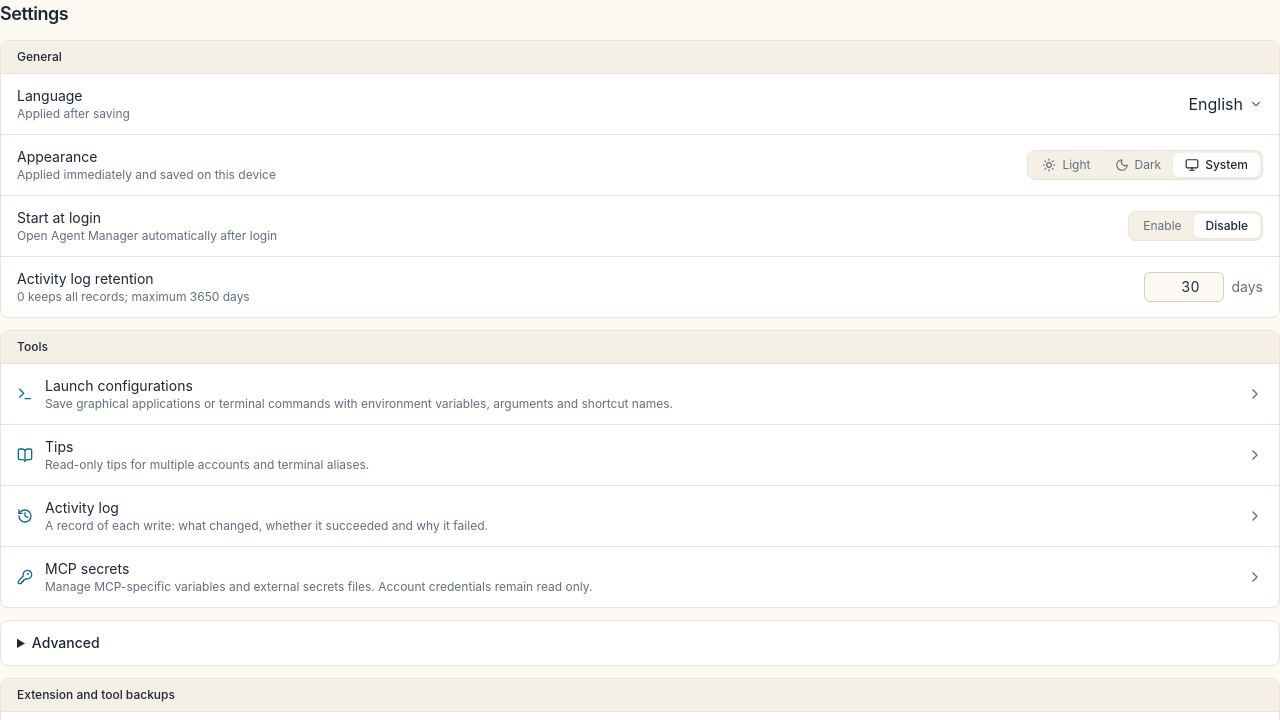
application language › does not let a canceled old settings read replace a newly saved language
What coordinates should you click on to do the following:
click the dropdown named "Language"
I would click on:
 (1226, 104)
Its box is [1188,92,1263,116].
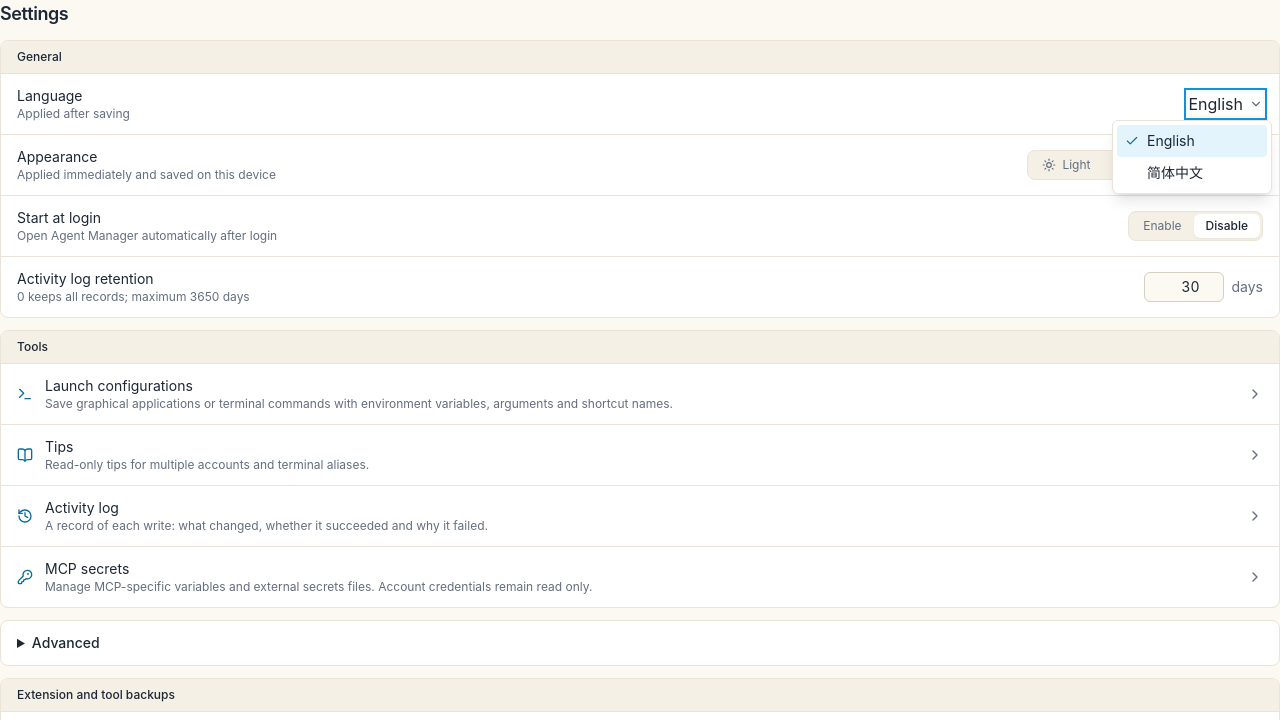
What coordinates should you click on to do the following:
click the option "简体中文"
I would click on:
 (1175, 172)
Its box is [1147,164,1203,181].
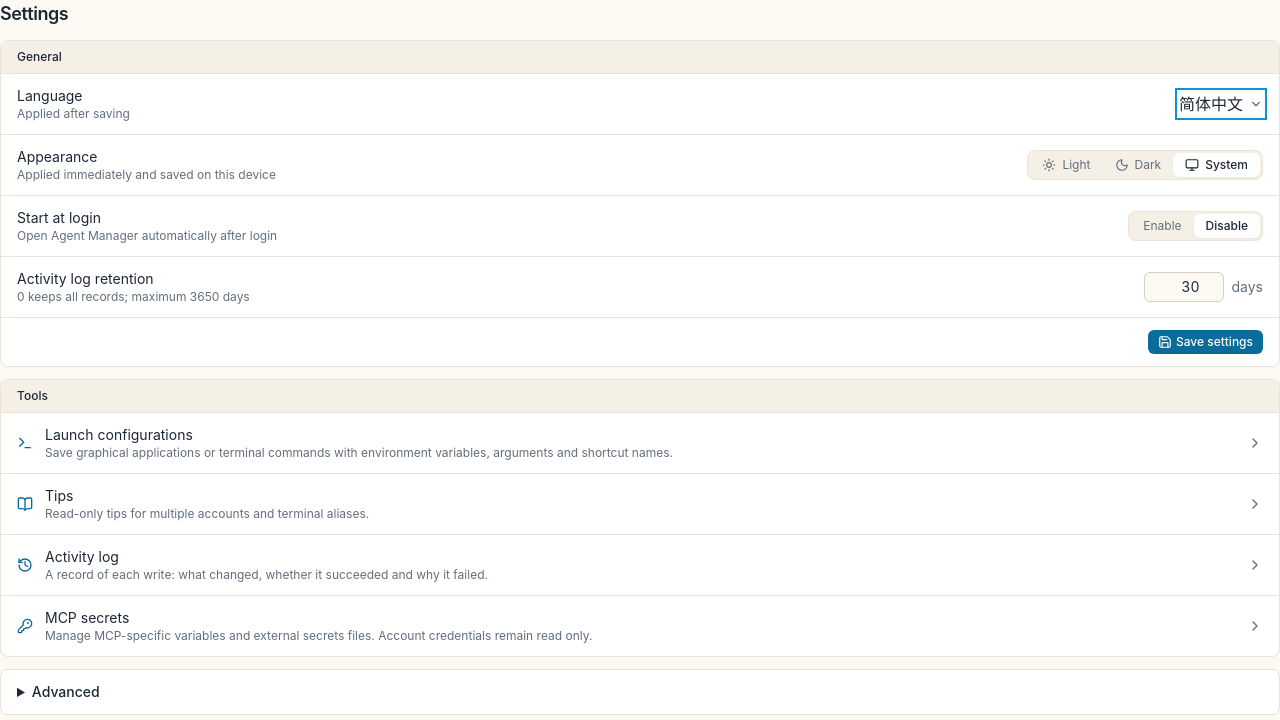
What coordinates should you click on to do the following:
click the button "Save settings"
I would click on:
 (1205, 342)
Its box is [1148,330,1263,354].
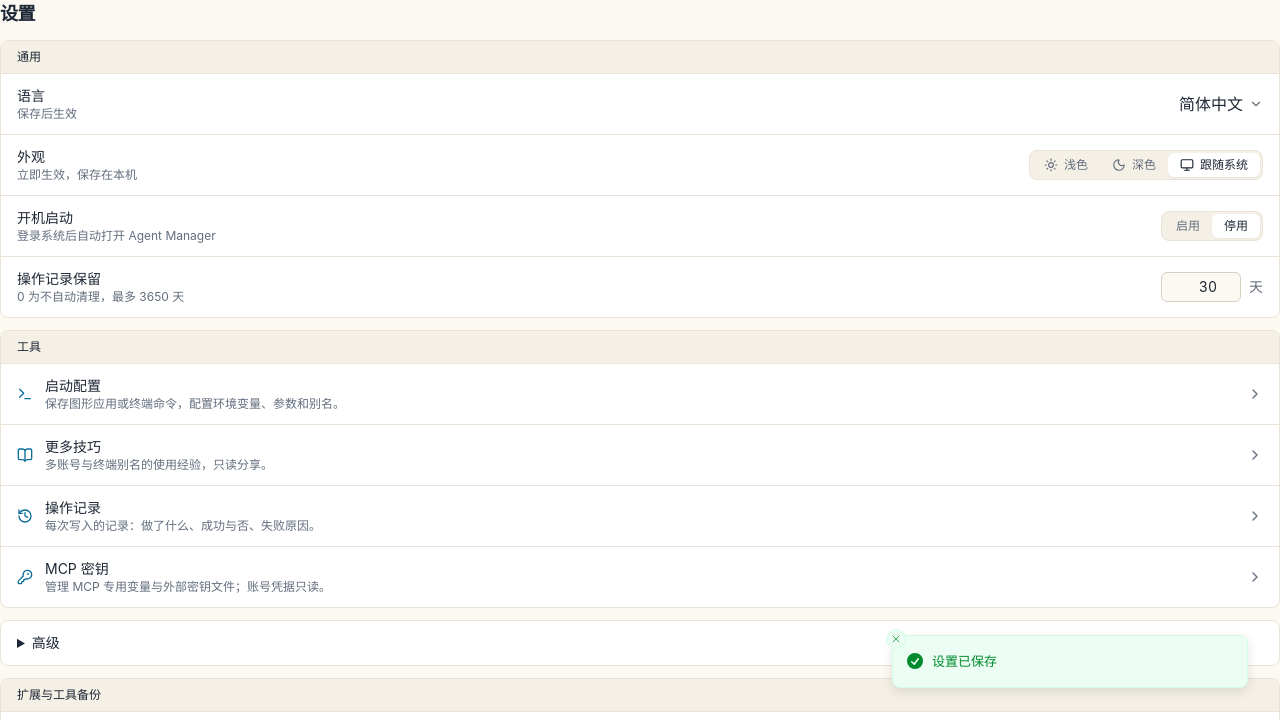
expect the heading "设置" is shown: met, box [0,3,35,24]
